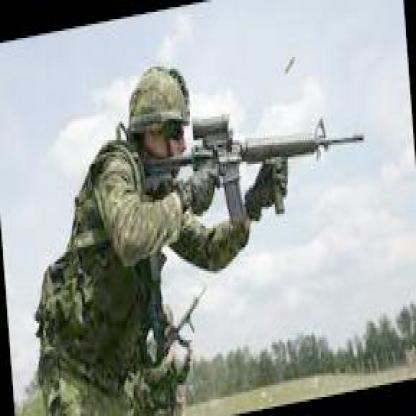rifle: (138, 102, 369, 228)
